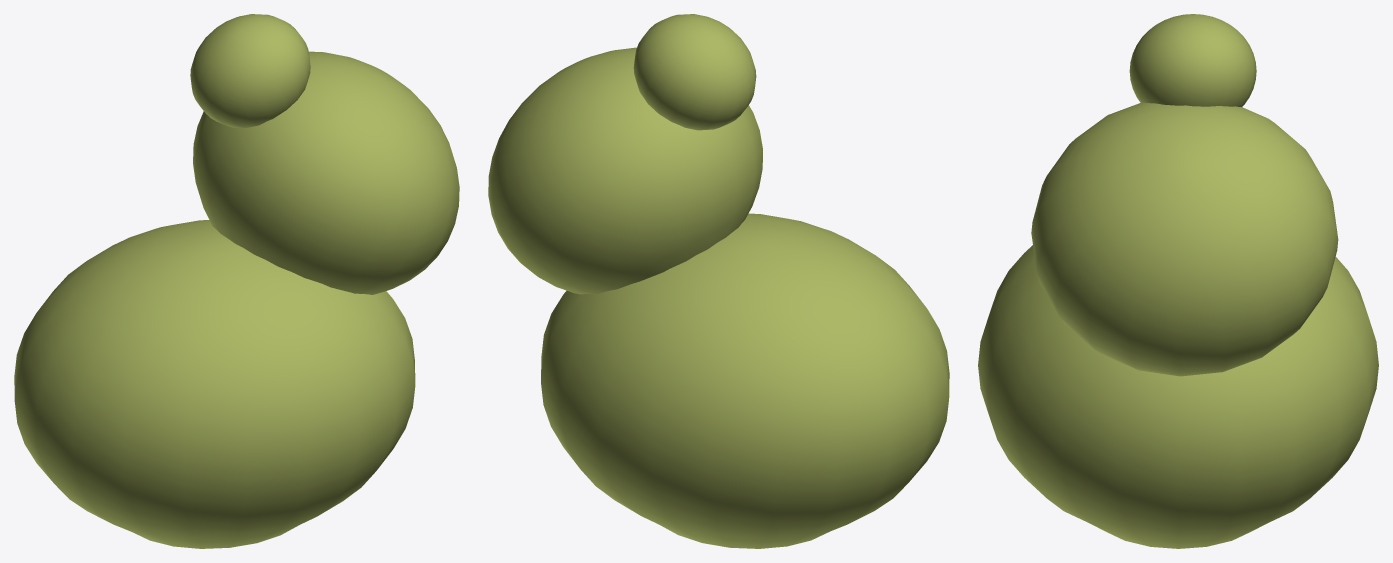
Rendered from PlantThreeFBX.fbx.
The picture shows the model from 3 angles, left to right: view 1: azimuth 30°, elevation 25°; view 2: azimuth 150°, elevation 25°; view 3: azimuth 270°, elevation 25°; orthographic projection. The views are drawn at different scales.
Visible parts, largest first — view 1: pSphere5, pSphere6, pSphere7; view 2: pSphere5, pSphere6, pSphere7; view 3: pSphere5, pSphere6, pSphere7.
Part boxes in pixels (x1,y1,x2,y2): pSphere5: (14,220,415,548); pSphere6: (193,51,459,294); pSphere7: (190,14,310,127); pSphere5: (541,213,949,548); pSphere6: (488,47,762,294); pSphere7: (633,14,756,130); pSphere5: (978,245,1378,548); pSphere6: (1031,102,1338,376); pSphere7: (1129,14,1256,106).
Size of the model in its own units: 1.77 by 1.97 by 1.4.
